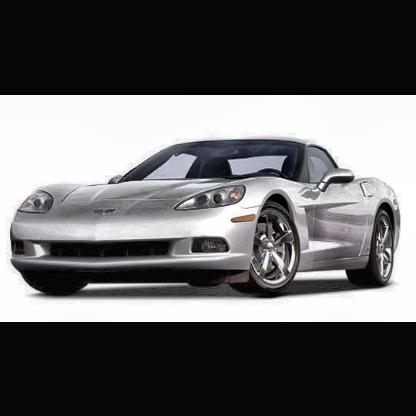Chevrolet Corvette Convertible 2012: (12, 141, 403, 300)
